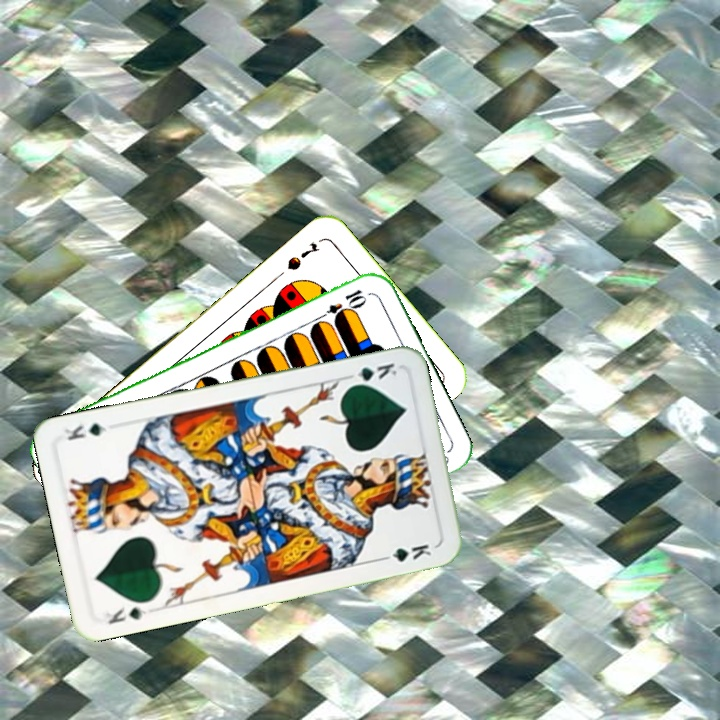E10: (314, 285, 370, 327)
GK: (344, 359, 400, 390), (101, 602, 149, 627)
S7: (283, 237, 323, 273)
